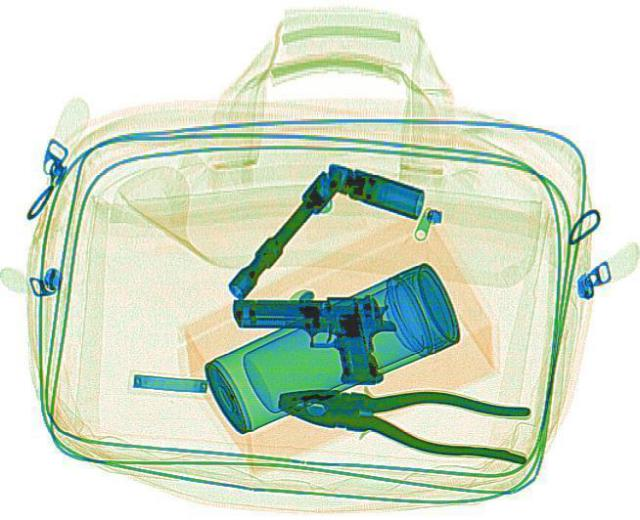Gun: (230, 293, 398, 381)
Pliers: (270, 368, 538, 463)
